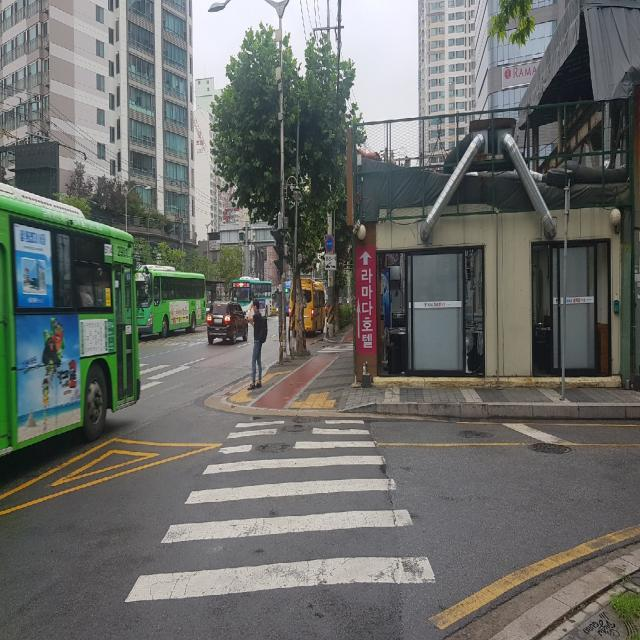횡단보도: (125, 419, 436, 604)
